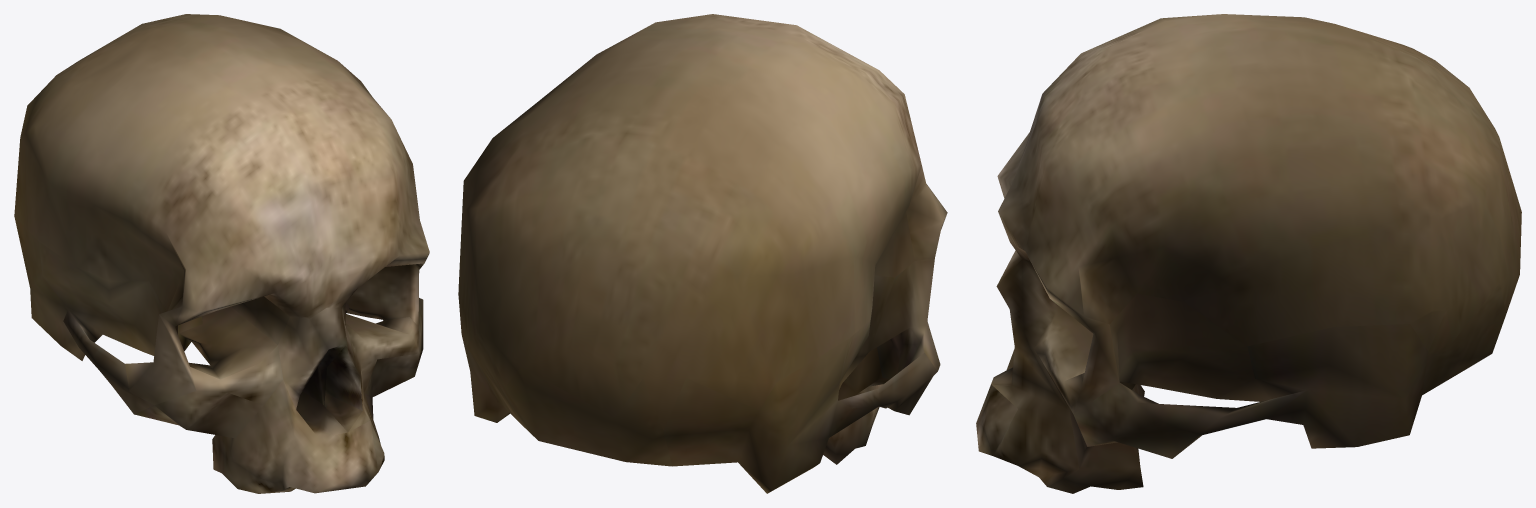
Rendered from skull_07.glb.
The picture shows the model from 3 angles, left to right: view 1: azimuth 30°, elevation 25°; view 2: azimuth 150°, elevation 25°; view 3: azimuth 270°, elevation 25°; orthographic projection. The views are drawn at different scales.
Visible parts, largest first — view 1: skull_07; view 2: skull_07; view 3: skull_07.
Boxes of the visible parts, x1,y1,x2,y2 form: skull_07: (14,14,429,493); skull_07: (458,14,947,493); skull_07: (976,14,1521,493).
Size of the model in its own units: 0.1536 by 0.1783 by 0.205.
1 material, 1 textured.
